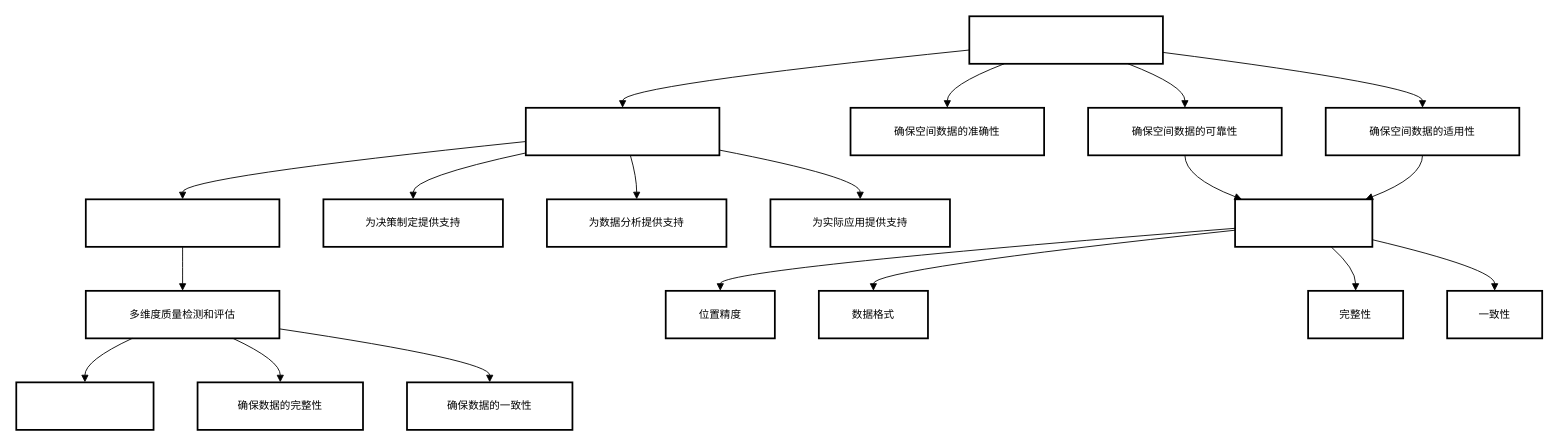
Some shapes in this 1558 by 445 pixel diagram are drawn without their labels. Each missing label, with the centre of its shape:
关键质量要素: the point at 1303,222
多层面和维度综合评估: the point at 622,131
支持空间数据质量检查: the point at 182,222
空间数据质量评价模型: the point at 1065,39
识别潜在问题: the point at 84,405
